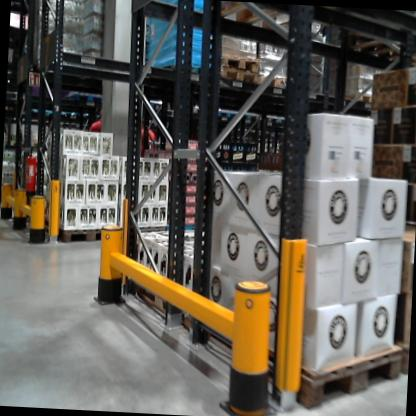pallet: (178, 308, 405, 406), (209, 4, 352, 48), (112, 267, 196, 334), (33, 220, 114, 252), (64, 87, 119, 106), (216, 66, 264, 87), (217, 54, 264, 71), (125, 222, 167, 240), (167, 220, 203, 238), (258, 72, 292, 91), (349, 91, 384, 105), (215, 107, 238, 124), (236, 110, 260, 125), (260, 112, 280, 125)
